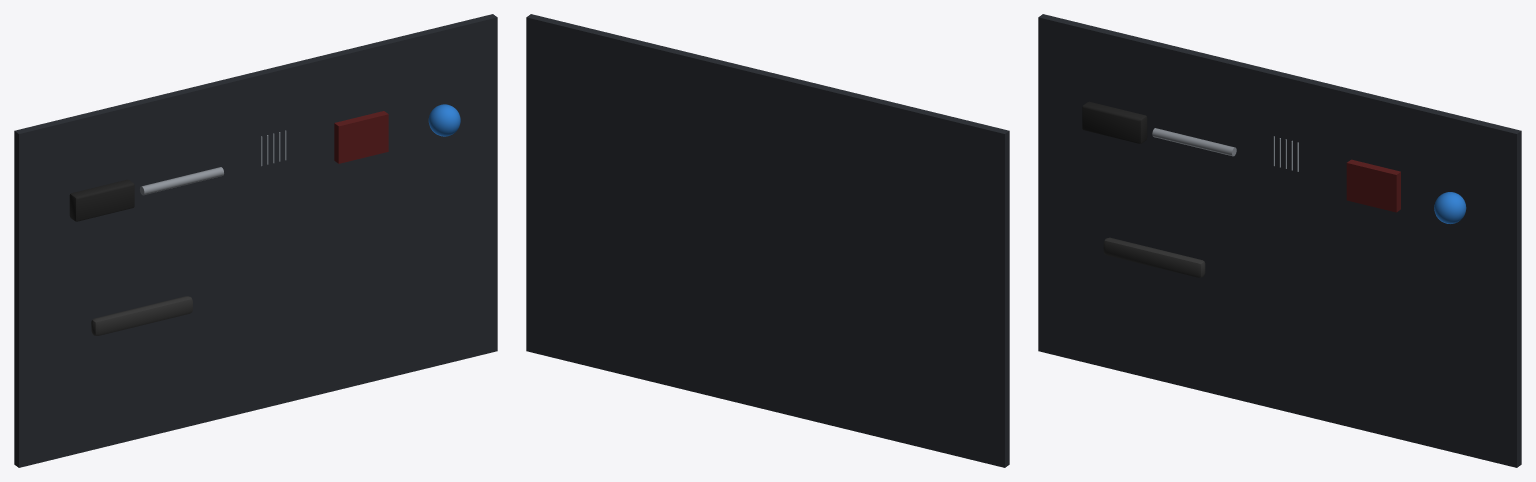
Rendered from armory_wall.glb.
The picture shows the model from 3 angles, left to right: view 1: azimuth 30°, elevation 25°; view 2: azimuth 150°, elevation 25°; view 3: azimuth 330°, elevation 25°; orthographic projection.
Parts seen in each view (by area): view 1: board, gadgets; view 2: board; view 3: board, gadgets.
Boxes of the visible parts, box(x1,y1,x2,y2) form: board: box(14, 14, 497, 467); gadgets: box(69, 104, 460, 335); board: box(526, 14, 1009, 467); board: box(1038, 14, 1521, 467); gadgets: box(1082, 101, 1466, 277).
Bounding box in the file's own units: 2.4 × 1.6 × 0.17.
